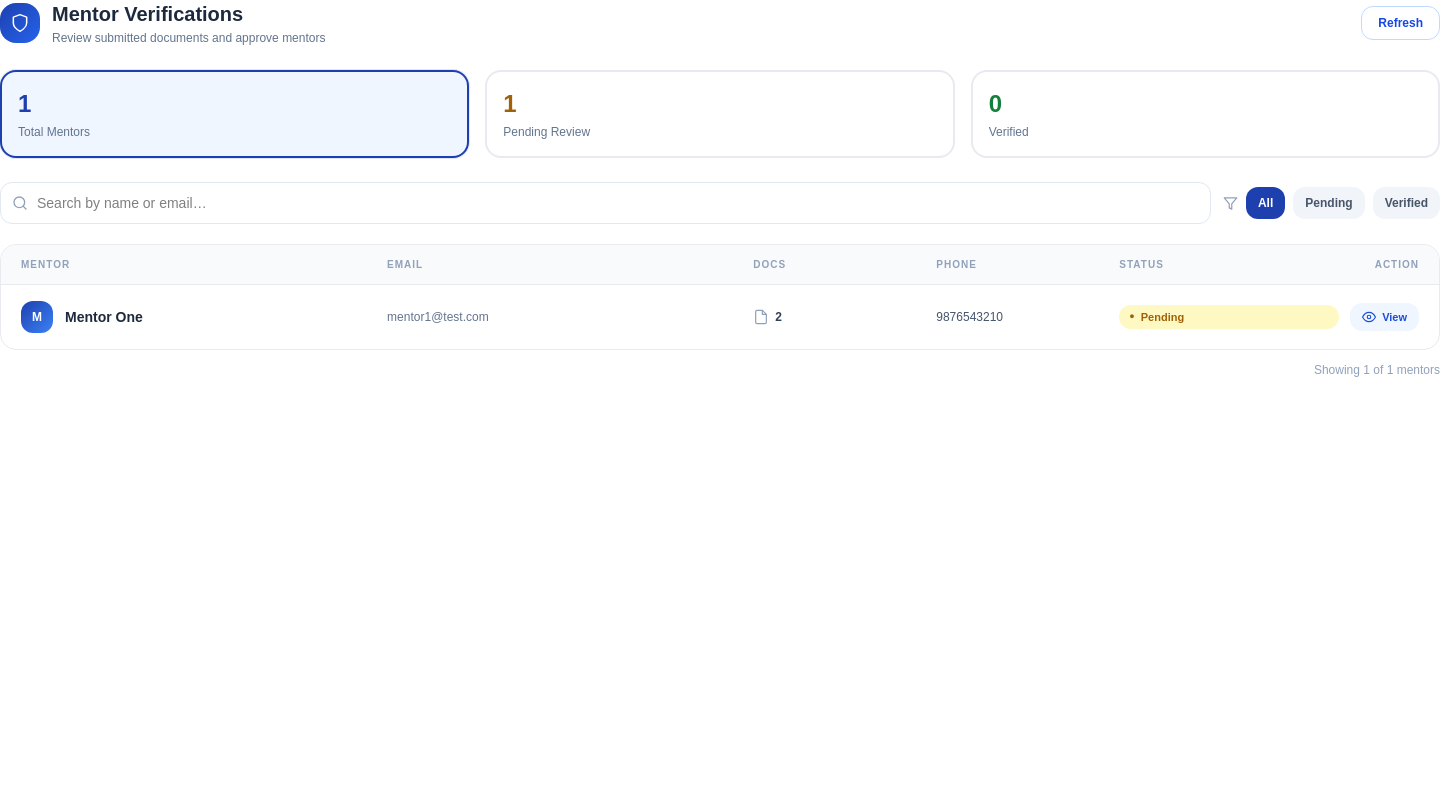
Test: AdminVerifications › DetailDrawer › shows a server error toast when verification fails
What coordinates should you click on to do the following:
click the button "View"
I would click on:
 (1385, 317)
Its box is [1350,303,1419,331].
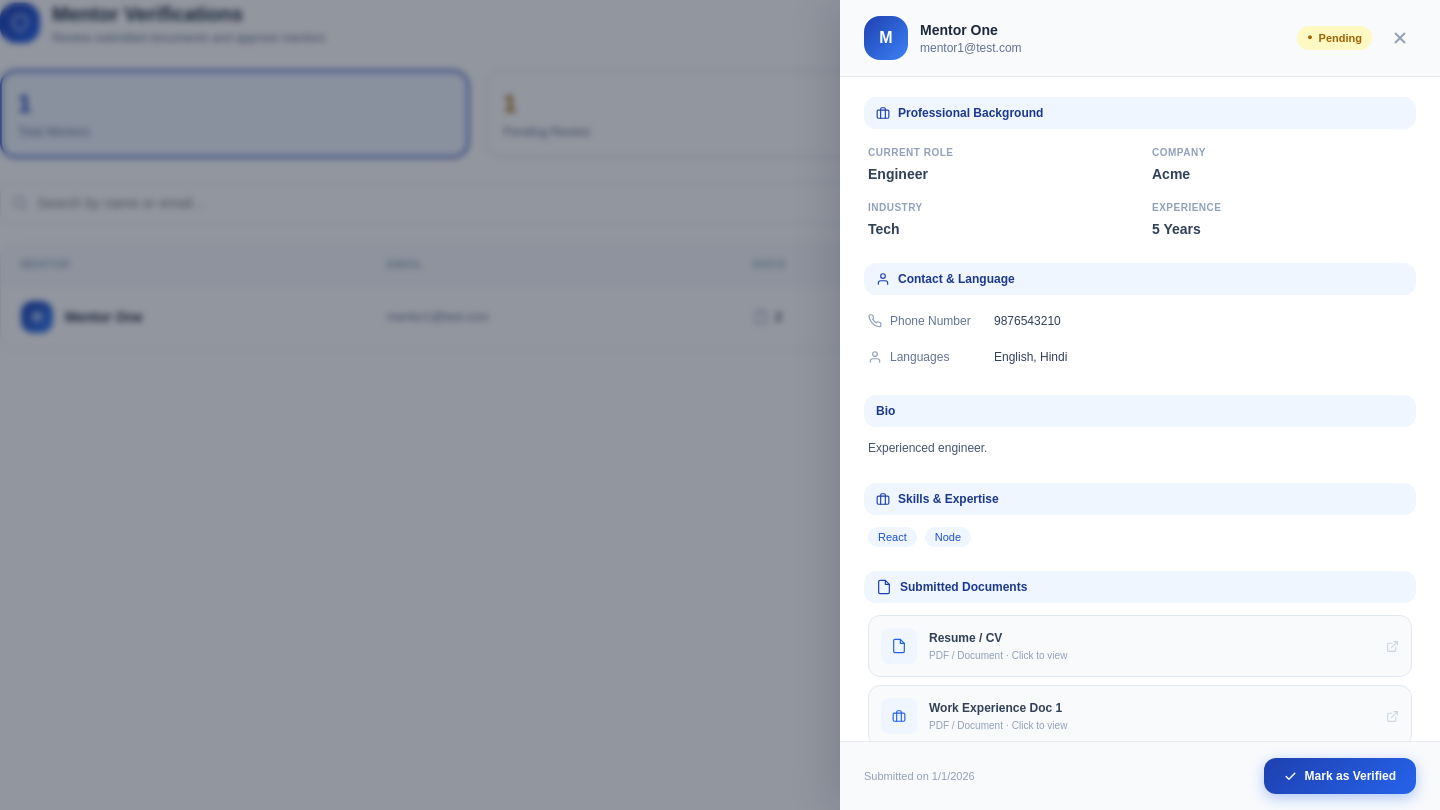
What coordinates should you click on to do the following:
click the button "Mark as Verified"
I would click on:
 (1340, 776)
Its box is [1264,758,1416,794].
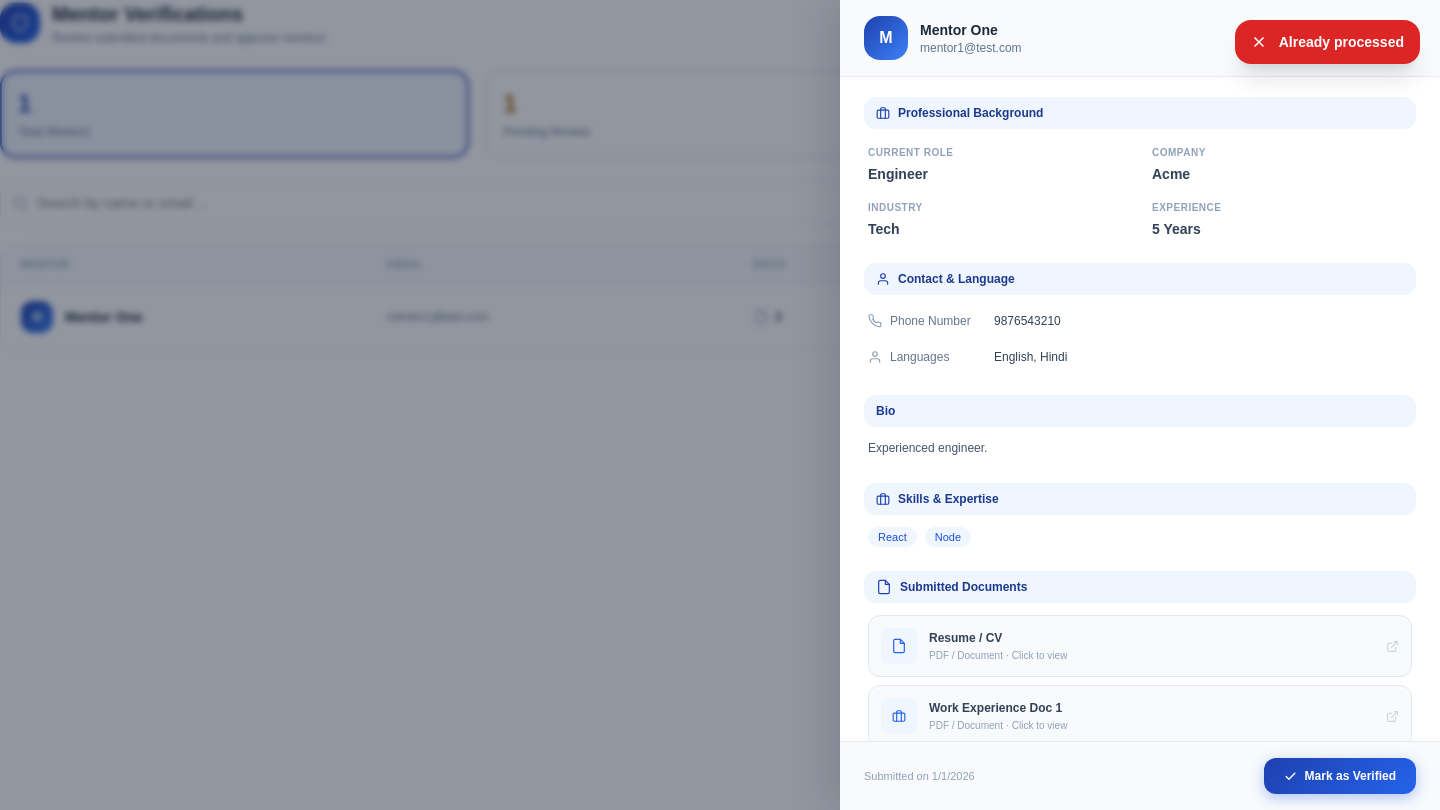
Check: the text "Already processed" is shown, box [1235,20,1420,64]
